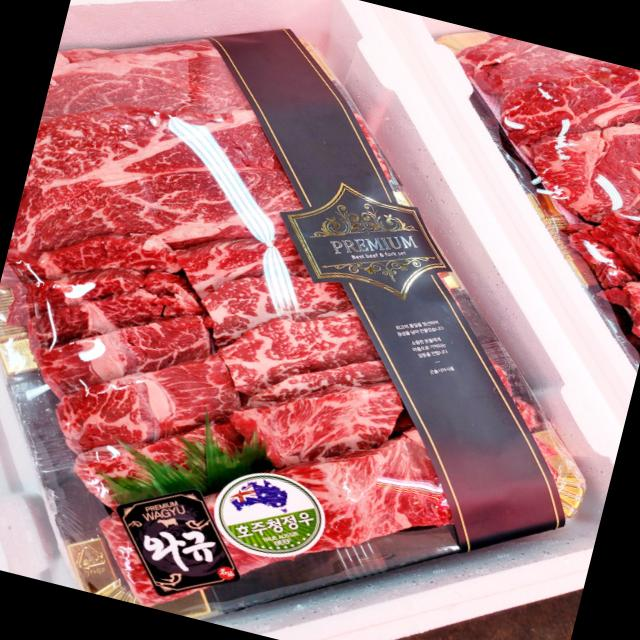beef: (1, 32, 536, 598), (474, 43, 640, 256)
